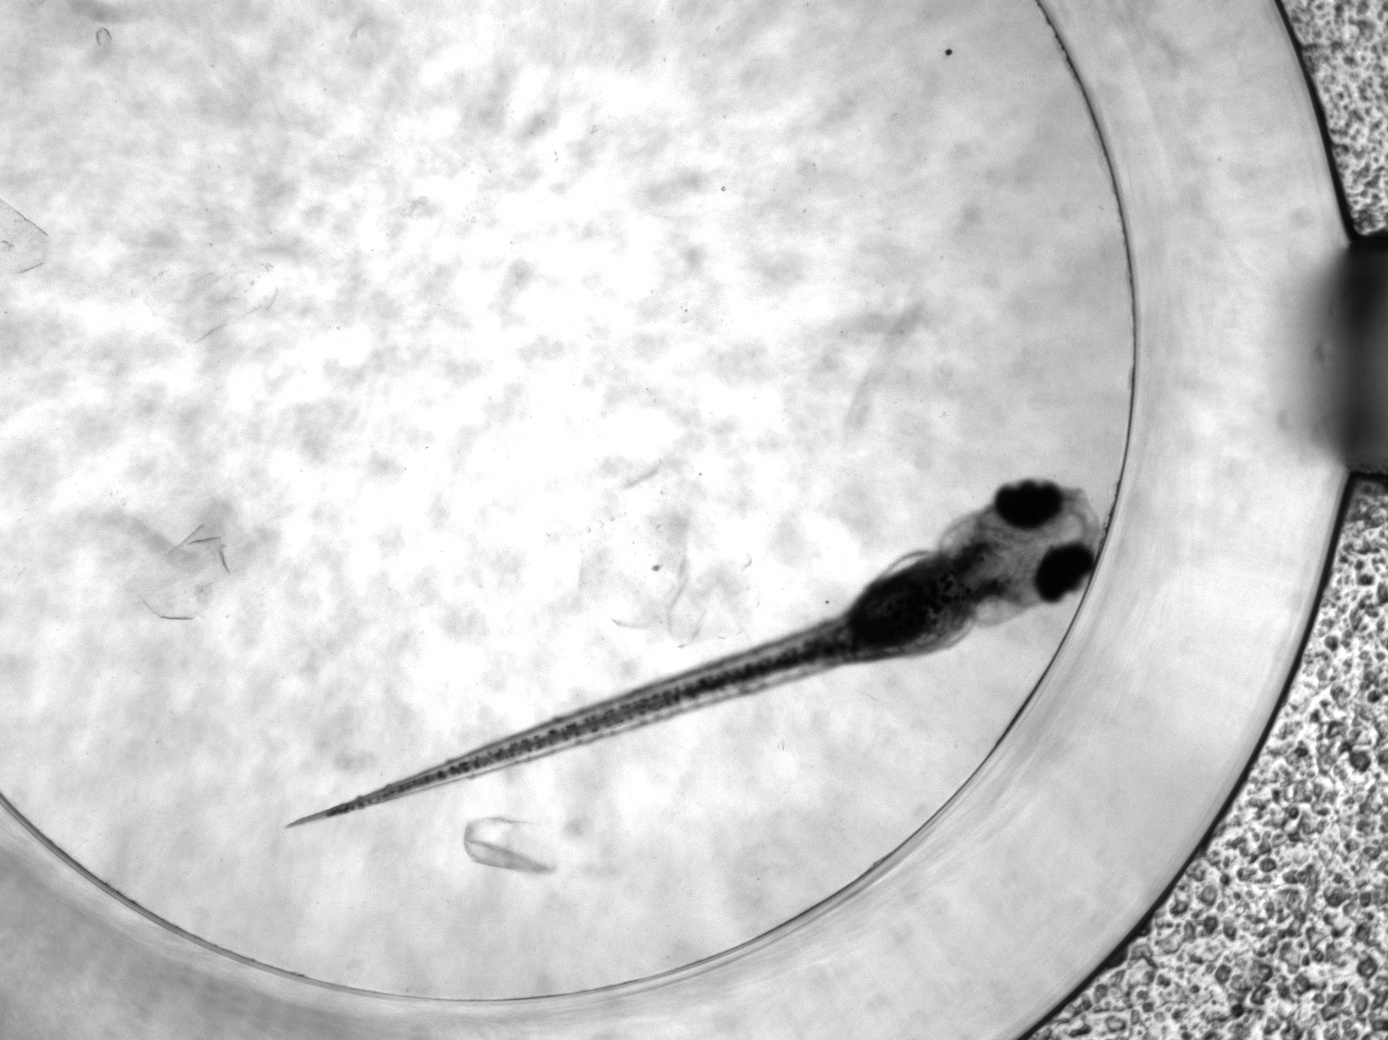debris: (137, 521, 232, 621), (466, 818, 563, 877)
embryo: (284, 477, 1105, 828)
eye: (1035, 542, 1098, 606), (992, 477, 1064, 531)
yolksac: (838, 549, 976, 664)
